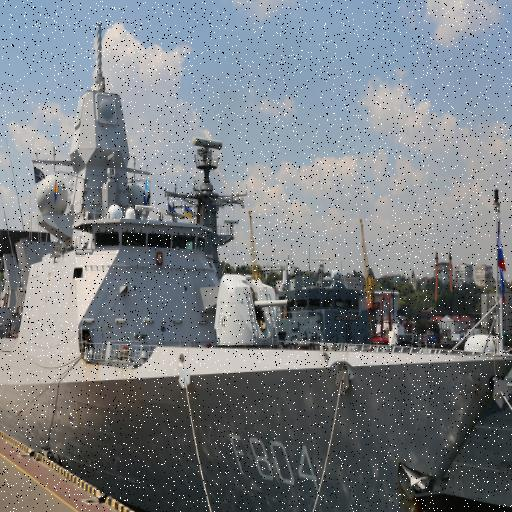Fragata: (1, 16, 512, 512)
